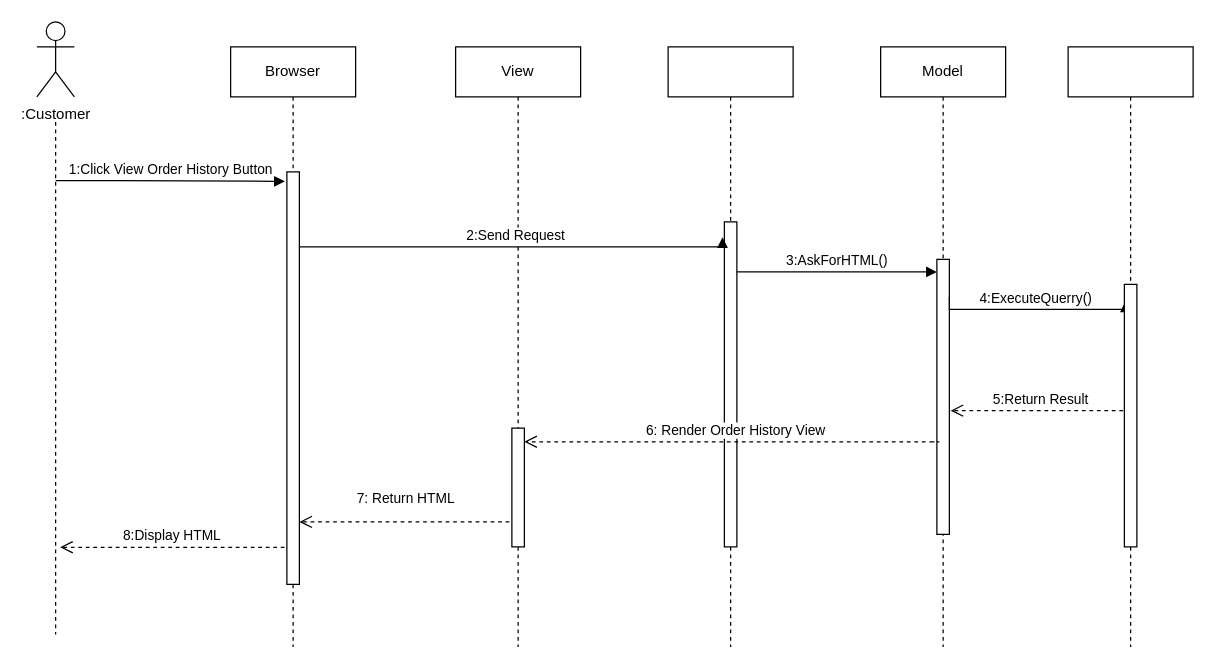
Image size: 1215x669. Some labels were removed from this diagram. Here are the shapes that lost their labels. From the top down, the box of each, then its label:
(667, 46, 793, 647): Controller
(1067, 46, 1193, 647): DB
